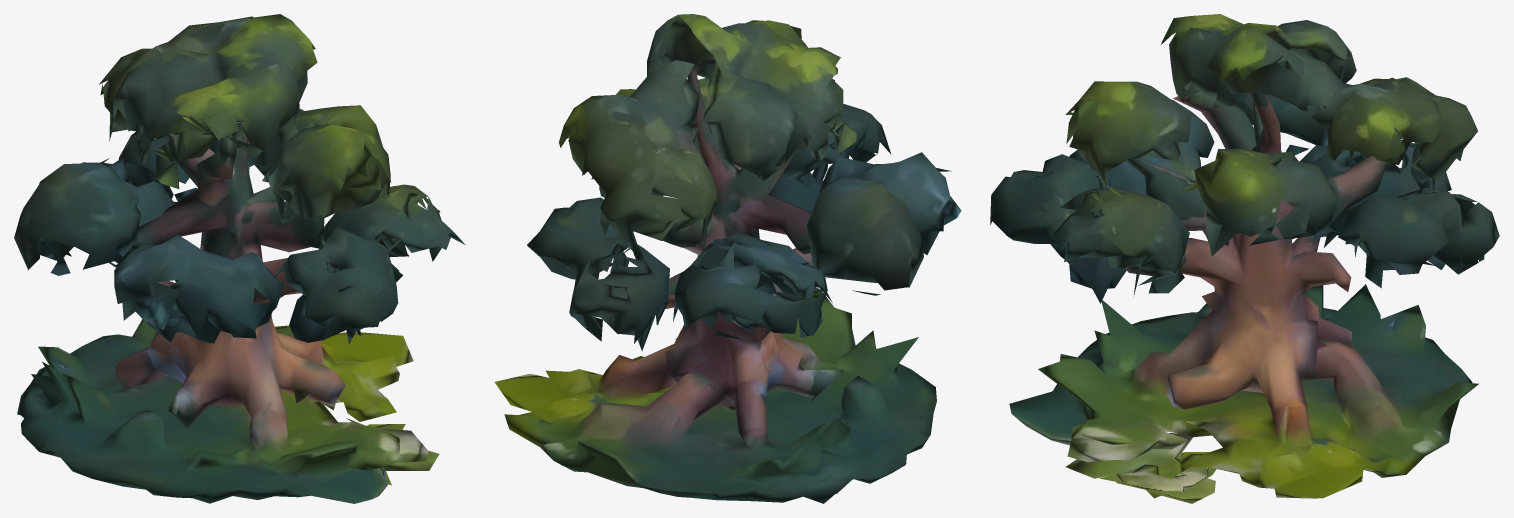
File: jungle_tree.glb
3 views of the same model, side by side, from view 1: azimuth 30°, elevation 25°; view 2: azimuth 150°, elevation 25°; view 3: azimuth 270°, elevation 25° (orthographic). The views are drawn at different scales.
Parts seen in each view (by area): view 1: tripo_node_546016b9-99fd-4d60-9836-5f2ab81b1588; view 2: tripo_node_546016b9-99fd-4d60-9836-5f2ab81b1588; view 3: tripo_node_546016b9-99fd-4d60-9836-5f2ab81b1588.
Part boxes in pixels (left/top/right/bottom): tripo_node_546016b9-99fd-4d60-9836-5f2ab81b1588: left=14, top=14, right=465, bottom=503; tripo_node_546016b9-99fd-4d60-9836-5f2ab81b1588: left=494, top=14, right=961, bottom=503; tripo_node_546016b9-99fd-4d60-9836-5f2ab81b1588: left=990, top=14, right=1499, bottom=503.
Size of the model in its own units: 0.9107 by 0.9367 by 0.9804.
1 material, 1 textured.
